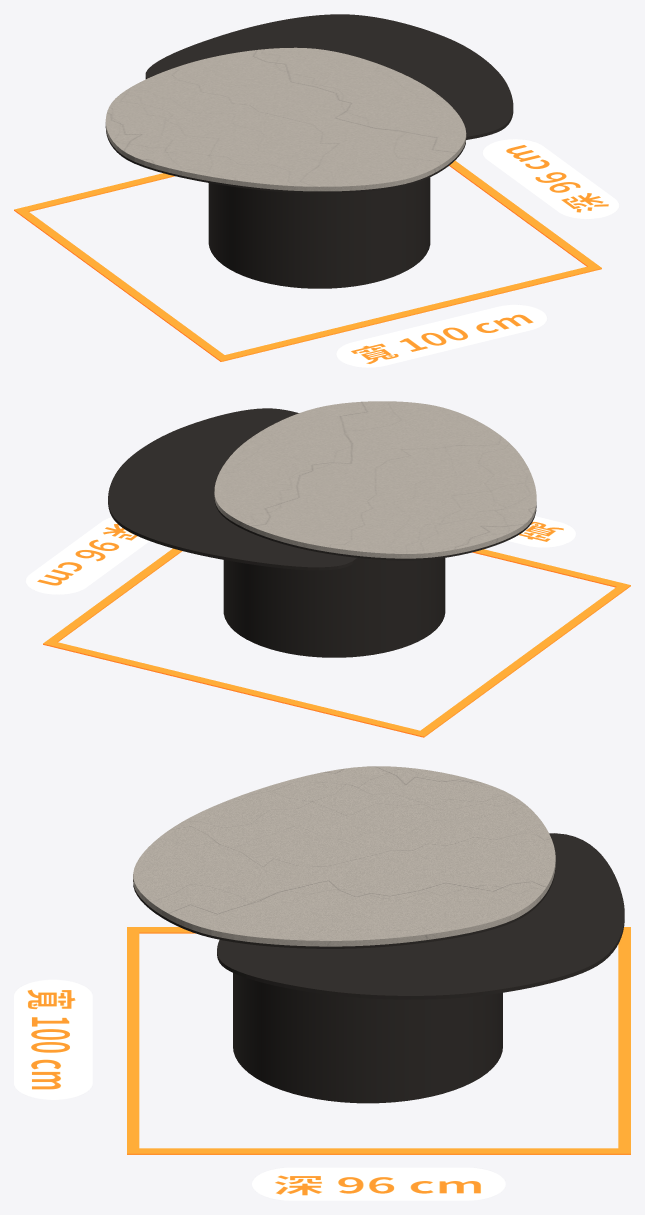
Rendered from ownDorn-f.glb.
3 renders of one model, top to bottom at view 1: azimuth 30°, elevation 25°; view 2: azimuth 150°, elevation 25°; view 3: azimuth 270°, elevation 25°, orthographic. The views are drawn at different scales.
Parts seen in each view (by area): view 1: object 3, object 4, ar-frame, object 1, object 2; view 2: object 3, object 4, object 1, ar-frame, object 2; view 3: object 3, ar-frame, object 4, object 1, object 2.
Boxes of the visible parts, x1,y1,x2,y2 form: object 3: [105, 47, 466, 191]; object 4: [208, 177, 430, 288]; ar-frame: [14, 139, 619, 367]; object 1: [145, 14, 513, 139]; object 2: [105, 126, 466, 193]; object 3: [214, 401, 536, 558]; object 4: [223, 558, 445, 657]; object 1: [108, 408, 359, 570]; ar-frame: [25, 516, 630, 737]; object 2: [214, 497, 536, 560]; object 3: [133, 766, 555, 946]; ar-frame: [14, 927, 630, 1200]; object 4: [233, 973, 502, 1103]; object 1: [217, 833, 624, 999]; object 2: [133, 868, 555, 948].
Size of the model in its own units: 1.24 by 0.35 by 1.18.
Materials: 5 (3 with a texture image).
